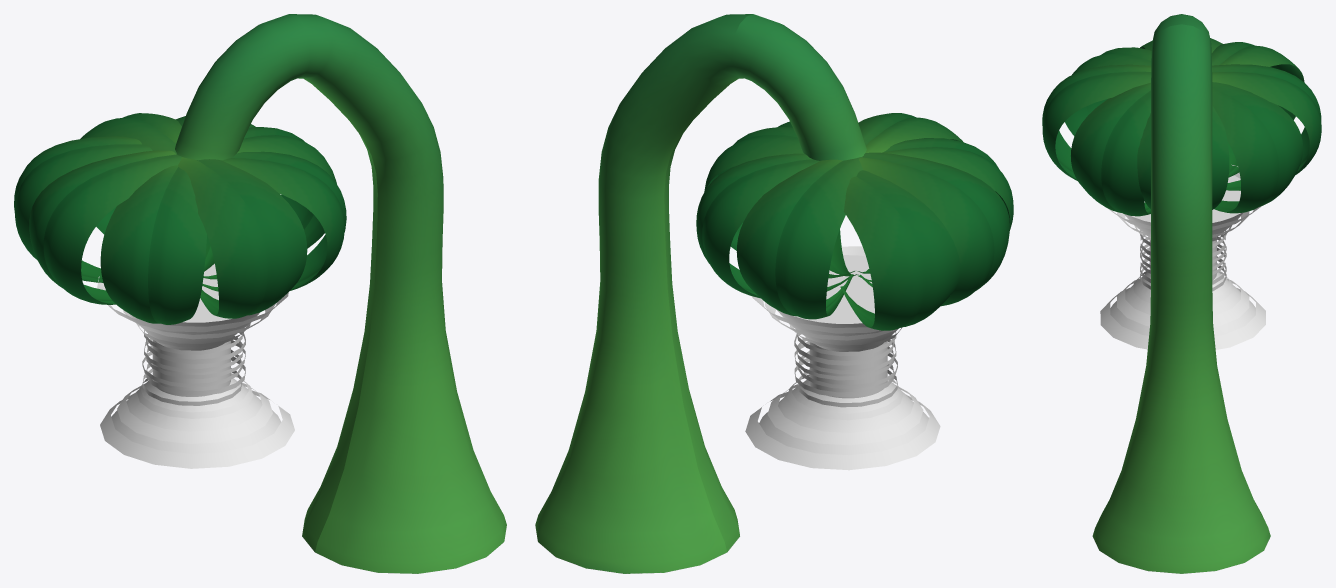
File: Tornado_Flower.fbx
3 renders of one model, left to right at view 1: azimuth 30°, elevation 25°; view 2: azimuth 150°, elevation 25°; view 3: azimuth 270°, elevation 25°, orthographic. The views are drawn at different scales.
Parts seen in each view (by area): view 1: TornadoBody, TornadoBody.001; view 2: TornadoBody, TornadoBody.001; view 3: TornadoBody, TornadoBody.001.
Boxes of the visible parts, x1,y1,x2,y2 form: TornadoBody: (14, 14, 506, 573); TornadoBody.001: (97, 263, 294, 468); TornadoBody: (535, 14, 1013, 573); TornadoBody.001: (745, 246, 940, 470); TornadoBody: (1042, 14, 1321, 573); TornadoBody.001: (1100, 164, 1265, 349).
Bounding box in the file's own units: 175 × 202 × 110.
